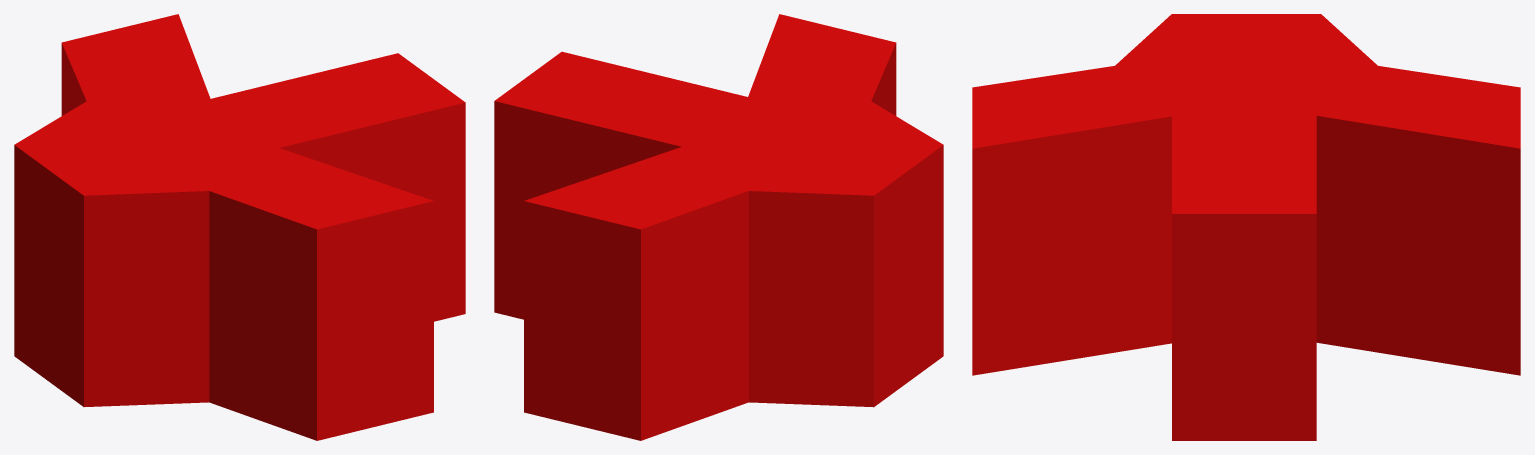
The model's file is HedgeColliders.fbx.
3 views of the same model, side by side, from view 1: azimuth 30°, elevation 25°; view 2: azimuth 150°, elevation 25°; view 3: azimuth 270°, elevation 25° (orthographic). The views are drawn at different scales.
Visible parts, largest first — view 1: HornbeamHedgeCurveACollision, HornbeamHedgeStraightCollision, HornbeamHedgeCurveBCollision; view 2: HornbeamHedgeCurveBCollision, HornbeamHedgeStraightCollision, HornbeamHedgeCurveACollision; view 3: HornbeamHedgeCurveACollision, HornbeamHedgeCurveBCollision, HornbeamHedgeStraightCollision.
Boxes of the visible parts, x1,y1,x2,y2 form: HornbeamHedgeCurveACollision: [16, 136, 433, 440]; HornbeamHedgeStraightCollision: [33, 53, 465, 321]; HornbeamHedgeCurveBCollision: [14, 14, 216, 357]; HornbeamHedgeCurveBCollision: [524, 136, 940, 440]; HornbeamHedgeStraightCollision: [494, 51, 910, 319]; HornbeamHedgeCurveACollision: [741, 14, 943, 372]; HornbeamHedgeCurveACollision: [972, 14, 1316, 375]; HornbeamHedgeCurveBCollision: [1178, 14, 1520, 375]; HornbeamHedgeStraightCollision: [1172, 22, 1316, 440].
Bounding box in the file's own units: 318 × 168 × 369.
